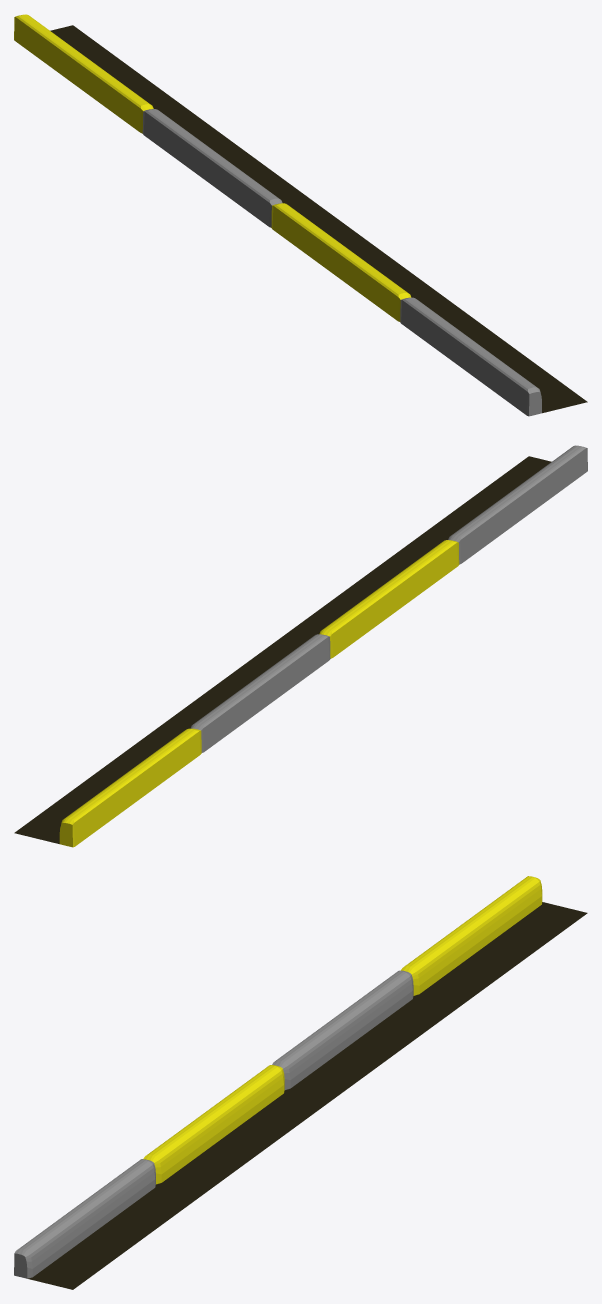
Rendered from Gutter+Yellow_Black.Curb.fbx.
3 views of the same model, one above another, from view 1: azimuth 30°, elevation 25°; view 2: azimuth 150°, elevation 25°; view 3: azimuth 330°, elevation 25° (orthographic).
Parts seen in each view (by area): view 1: Cube; view 2: Cube; view 3: Cube.
Part boxes in pixels (x1=…): Cube: x1=14, y1=14, x2=587, y2=416; Cube: x1=14, y1=445, x2=587, y2=847; Cube: x1=14, y1=876, x2=587, y2=1289.
Size of the model in its own units: 600 by 40.19 by 16.27.
